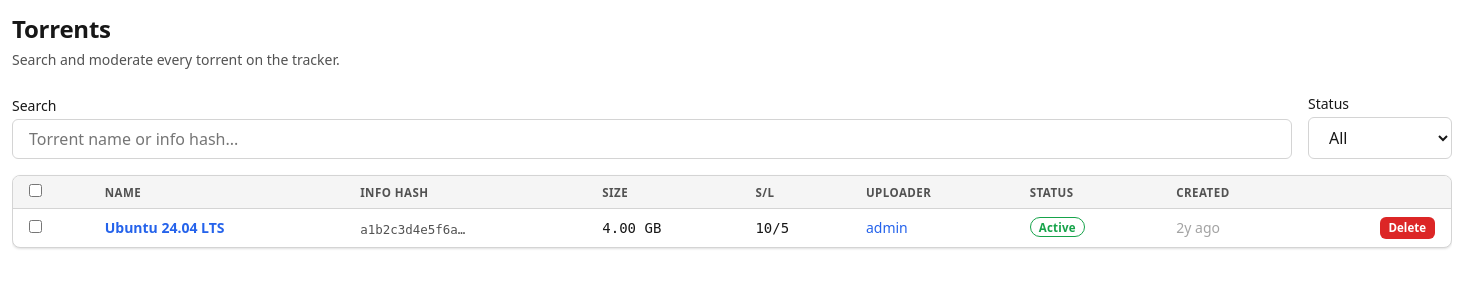
Test: AdminTorrentsPage › clears the selection when the filter changes
Check: the link "Ubuntu 24.04 LTS" is shown, box [105, 218, 225, 237]
Click the checkbox named "Select all on this page" at (36, 190), box [29, 184, 42, 197]
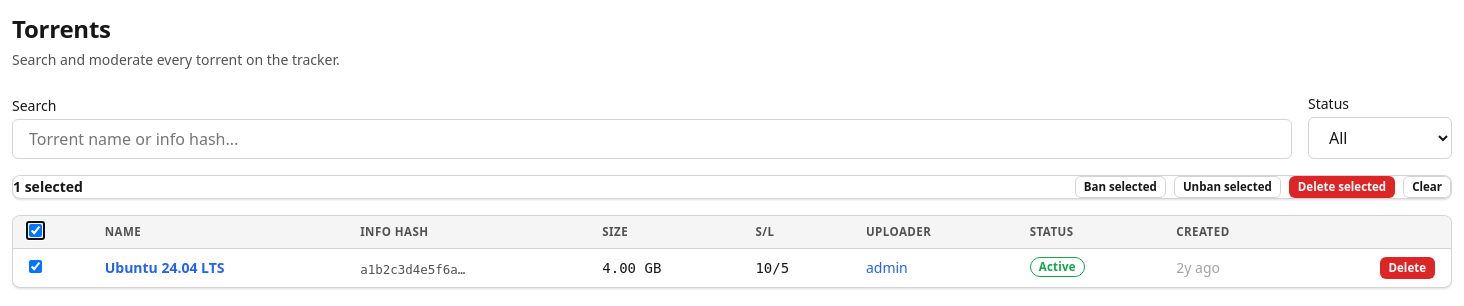
Check: the text "1 selected" is shown, box [13, 177, 83, 196]
Select "Banned" in the dropdown labelled "Status" at (1380, 138), box [1308, 117, 1452, 159]
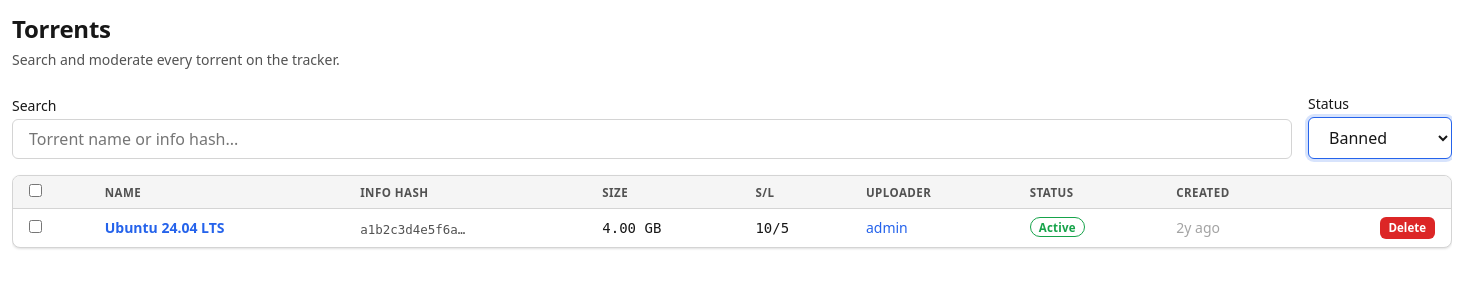
Check: the text "1 selected" is gone
